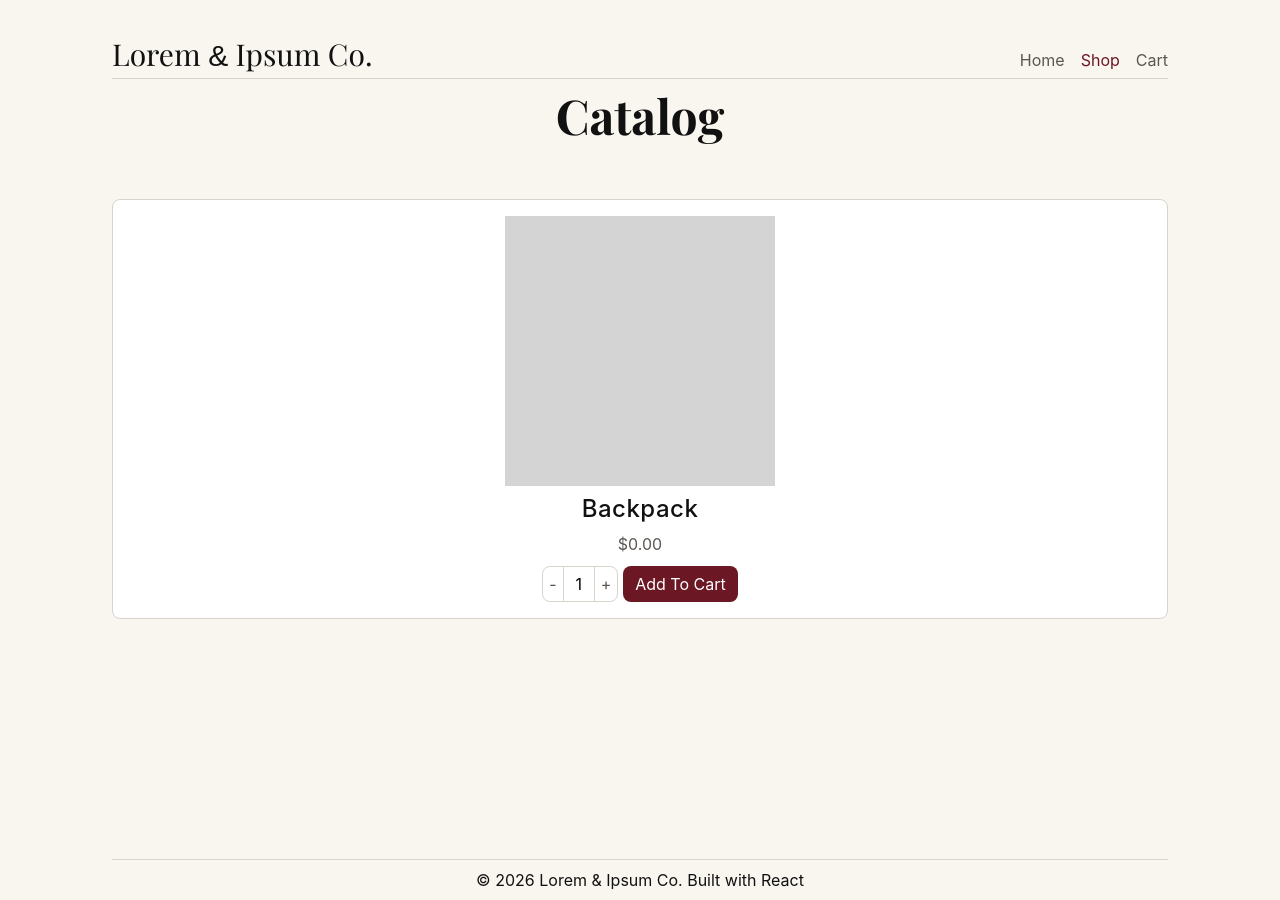
Test: App integration tests › cart badge reacts correctly to adding to cart
Click the button "+": (606, 584) [595,571,617,597]
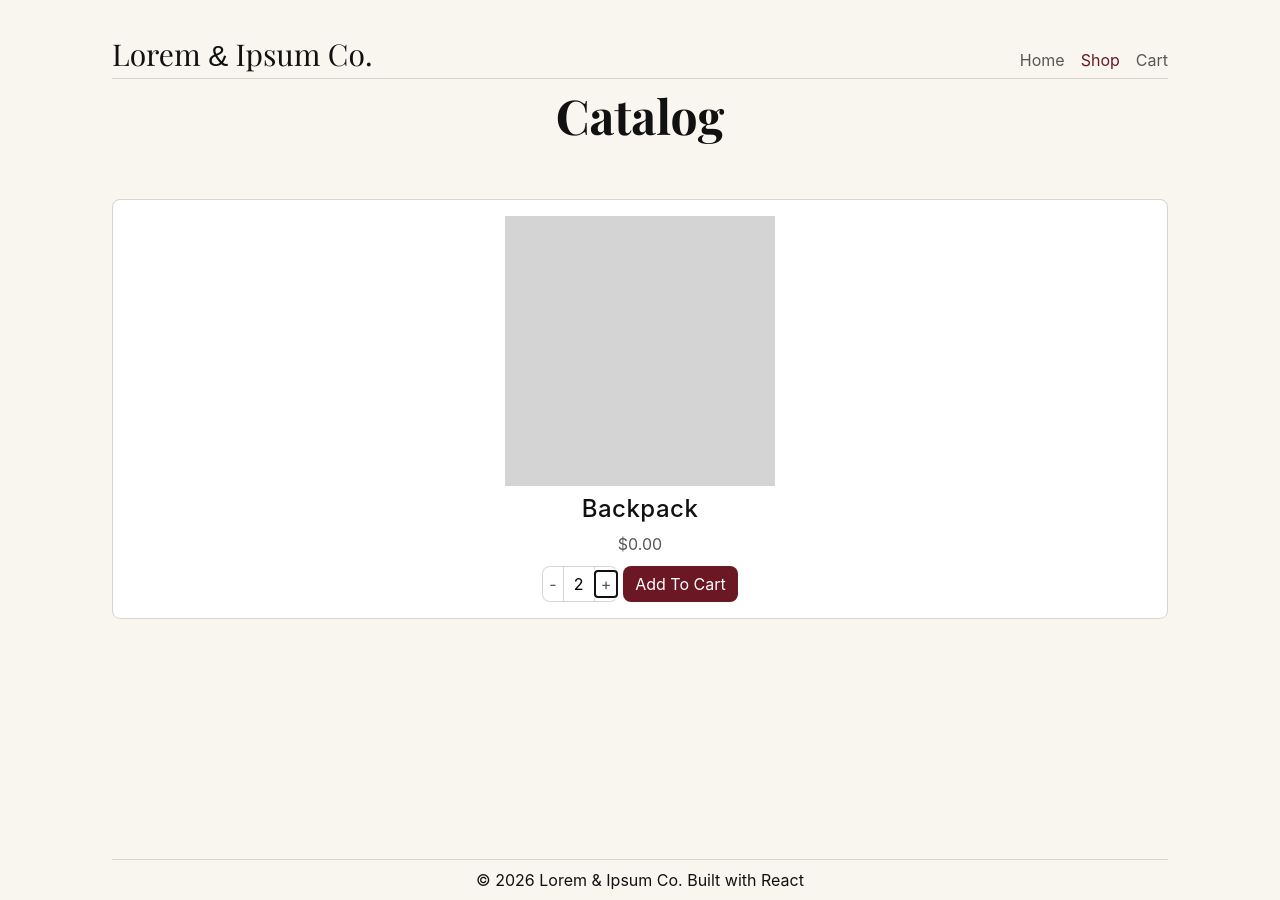
Click the button "+": (606, 584) [595,571,617,597]
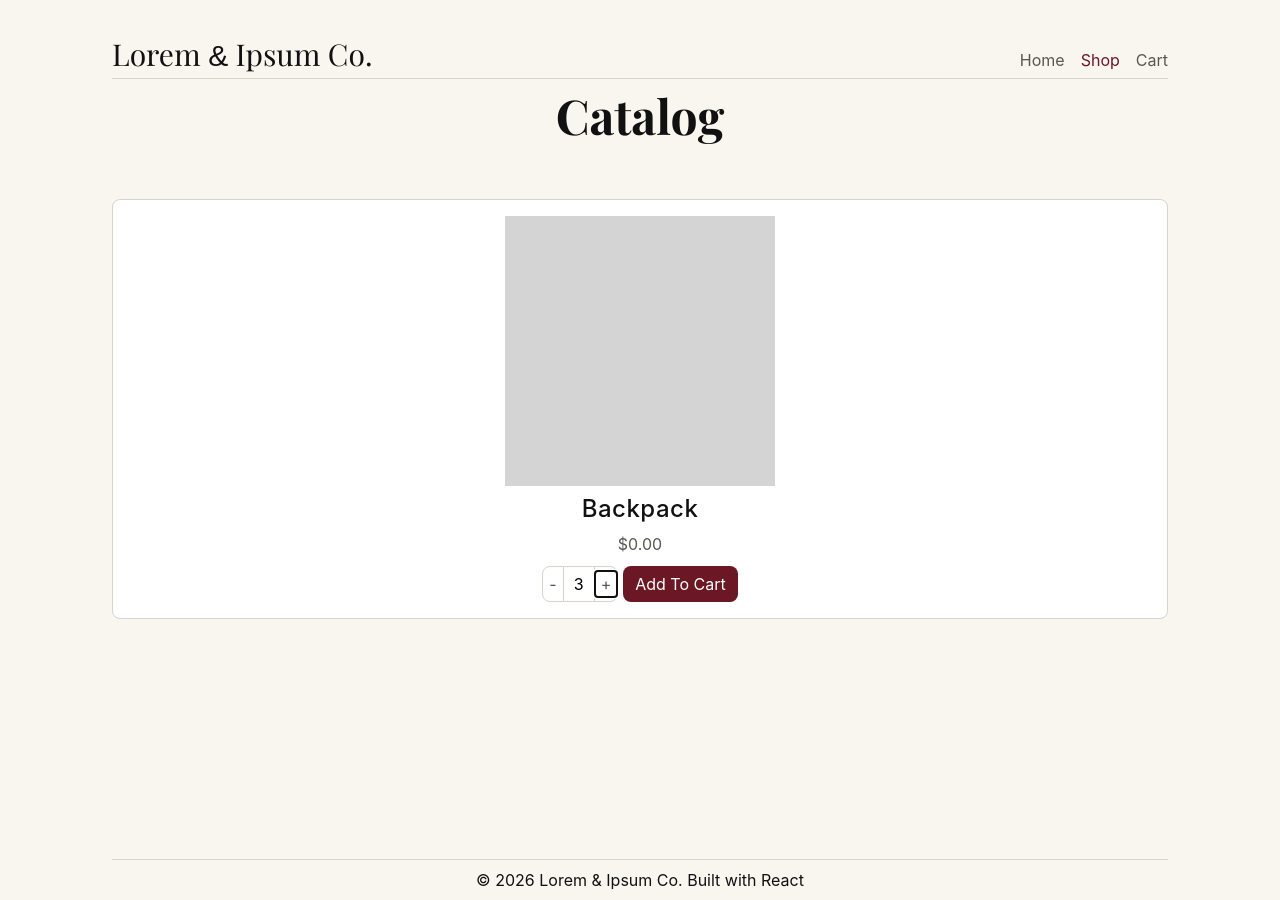
Click the button "Add To Cart": (680, 584) [623,566,738,602]
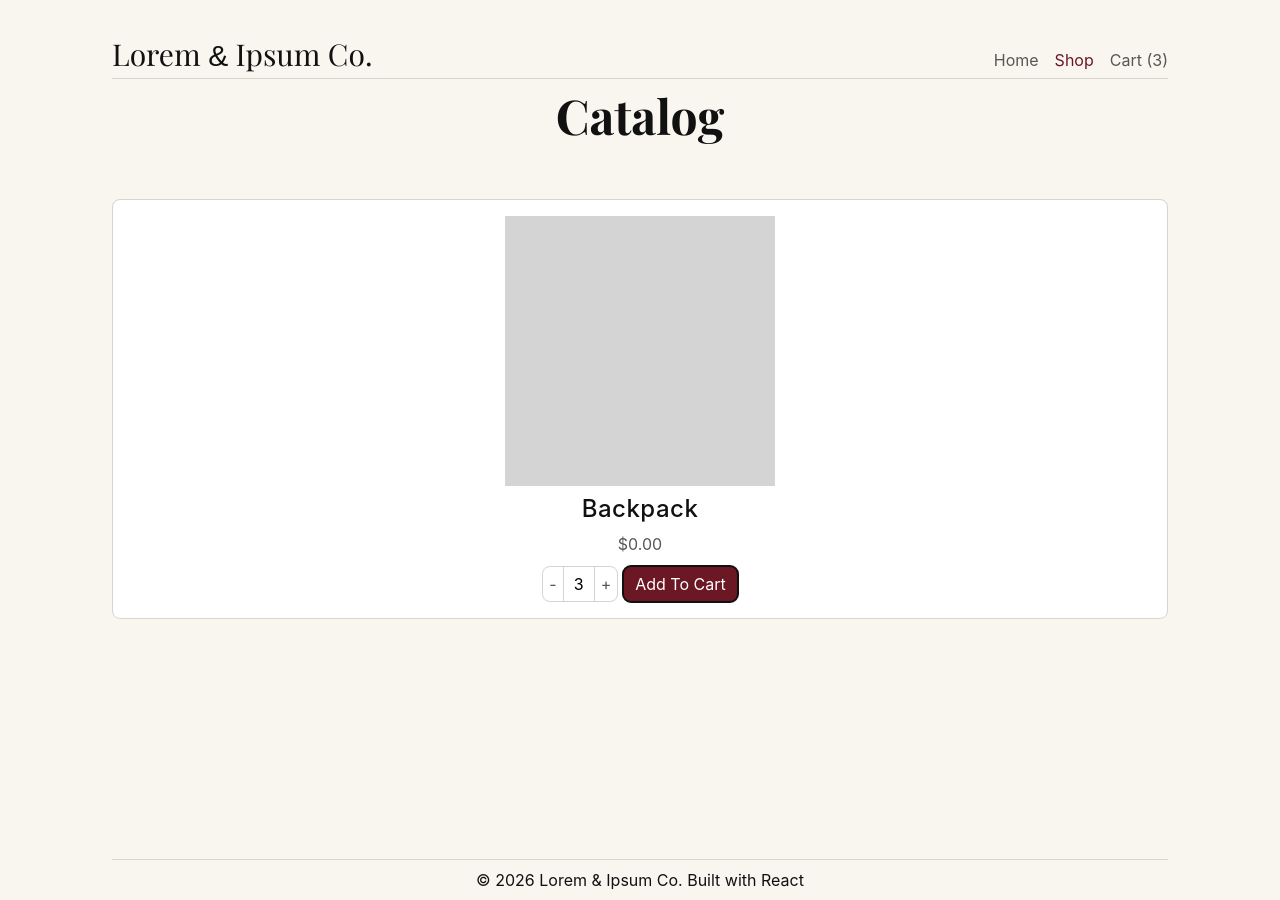
Expected: the text with test id "cart-badge" shows "3", [1152,50,1162,70]
